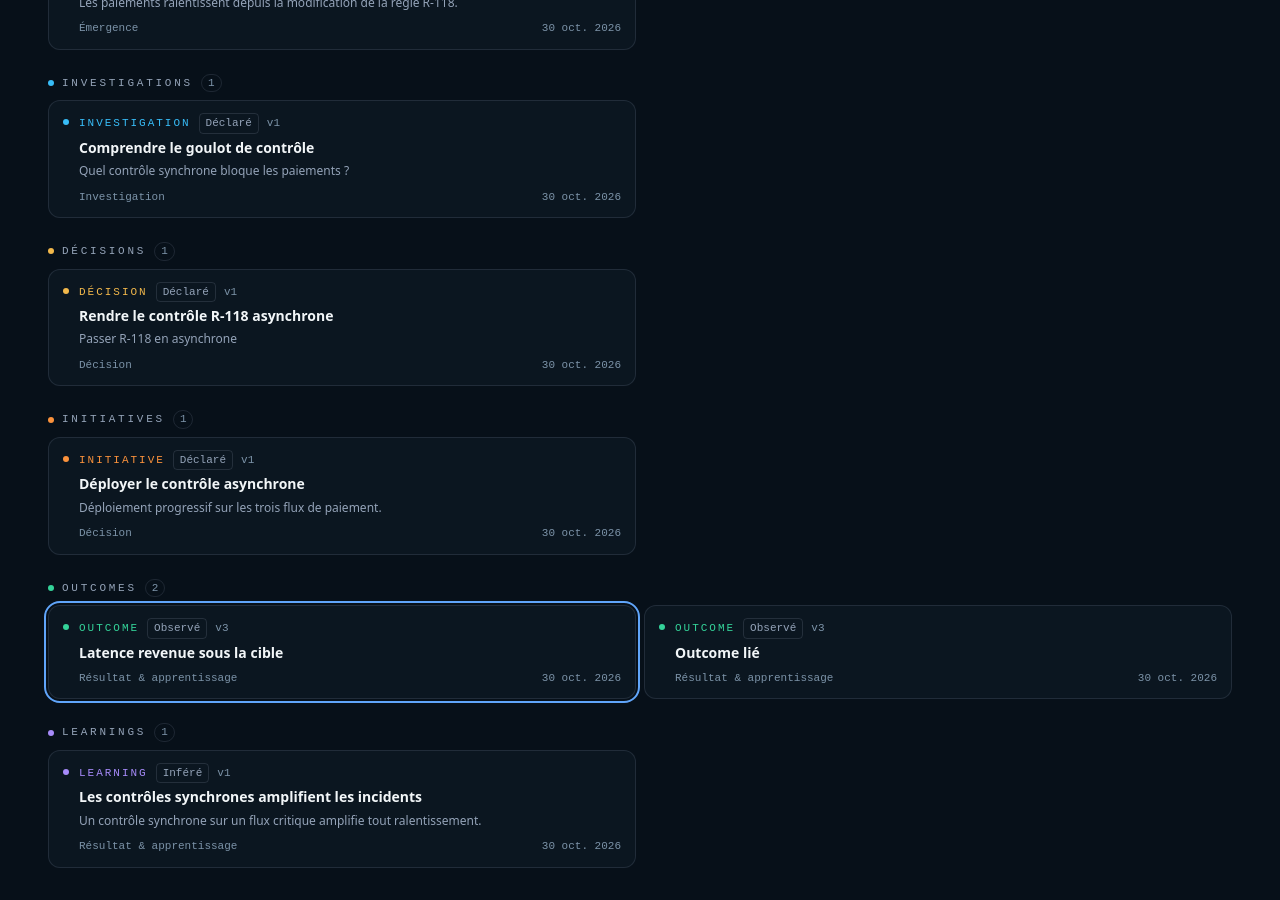
Scenario: montre les preuves, claims et outcomes exposés et ouvre un outcome lié
Later steps or results of the test are not shown.
(page scrolled)
Click the 5th button: (109, 628) [48,605,636,699]
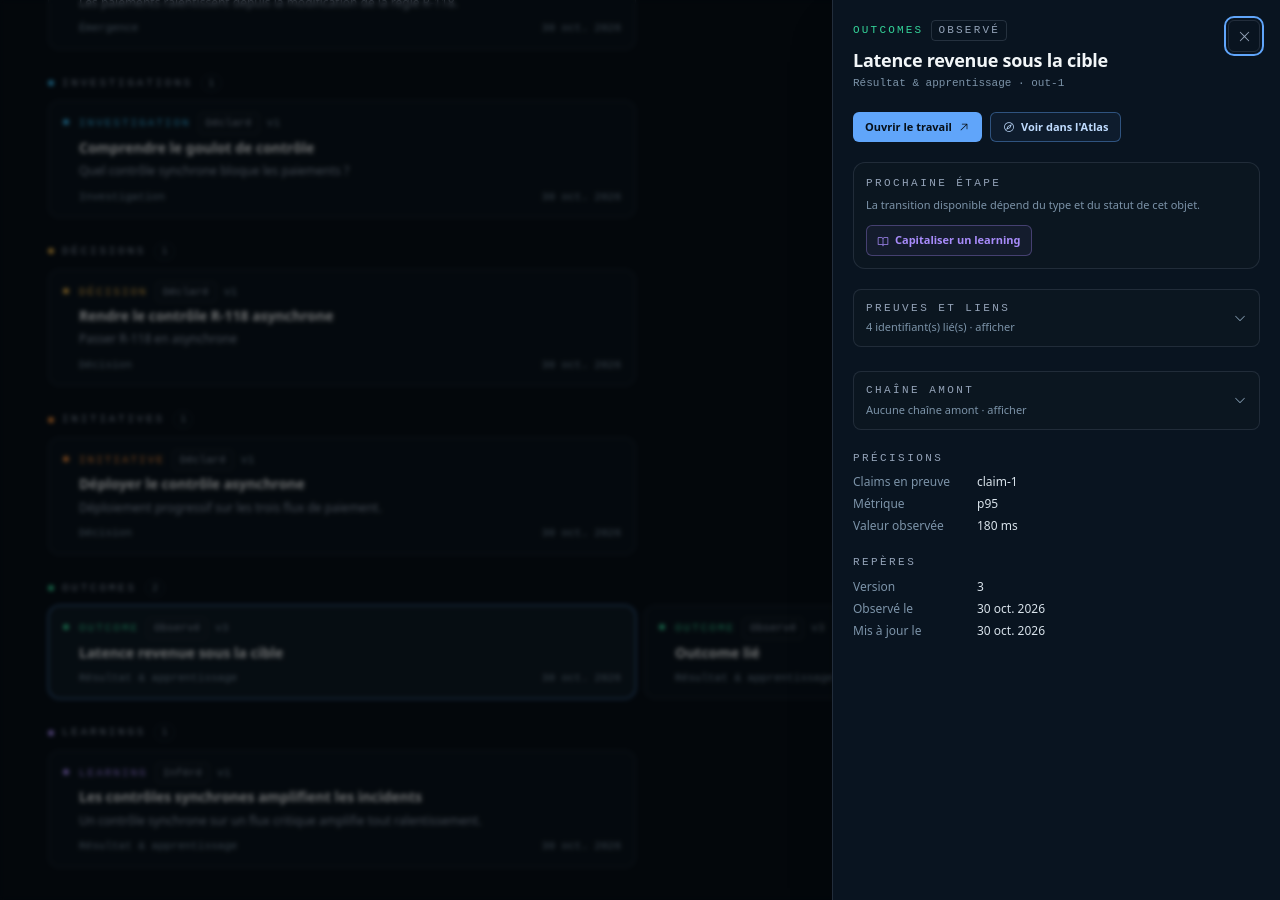
Expected: the button with test id "boucle-liens-bouton" is shown
Click the button with test id "boucle-liens-bouton": (938, 308) [853,289,1260,347]
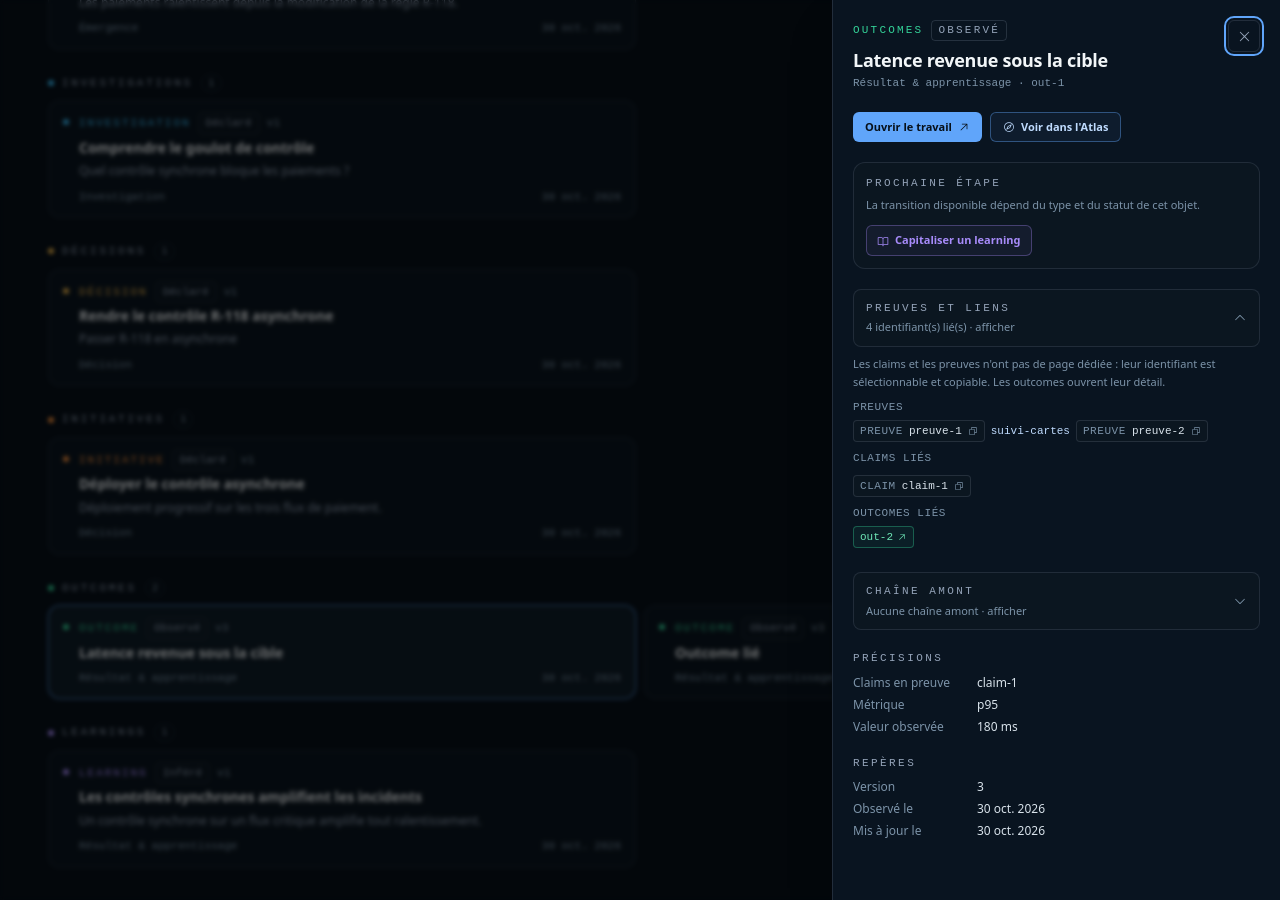
Expected: the element with test id "boucle-liens" is shown, [853,289,1260,548]
Expected: the list with test id "boucle-preuves" shows "preuve-1", [909,424,962,436]
Expected: the list with test id "boucle-preuves" shows "suivi-cartes", [991,424,1070,436]
Click the button with test id "boucle-claim-claim-1-copier": (959, 486) [954,481,964,491]
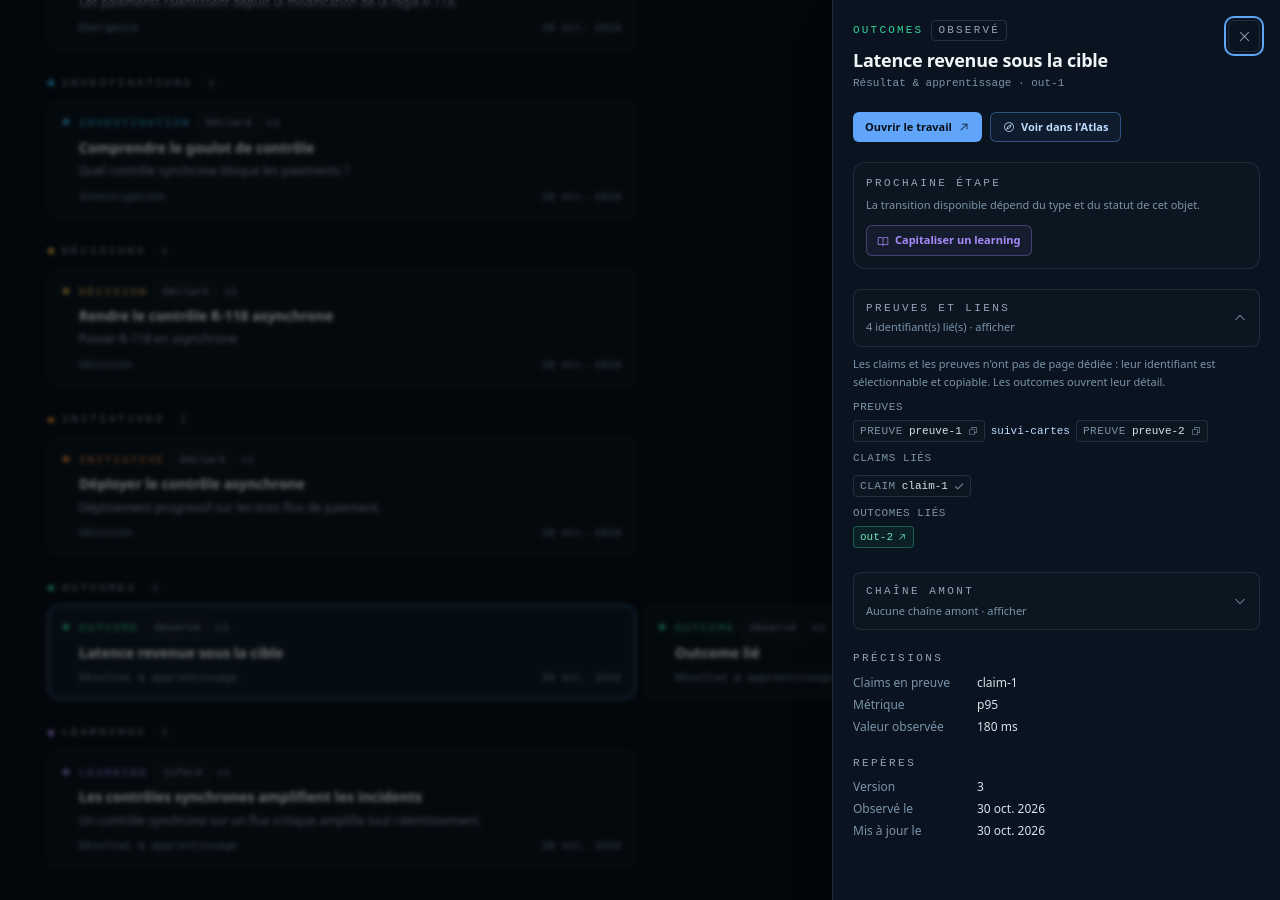
Click the button with test id "boucle-outcome-lien-out-2": (884, 537) [853,526,914,548]
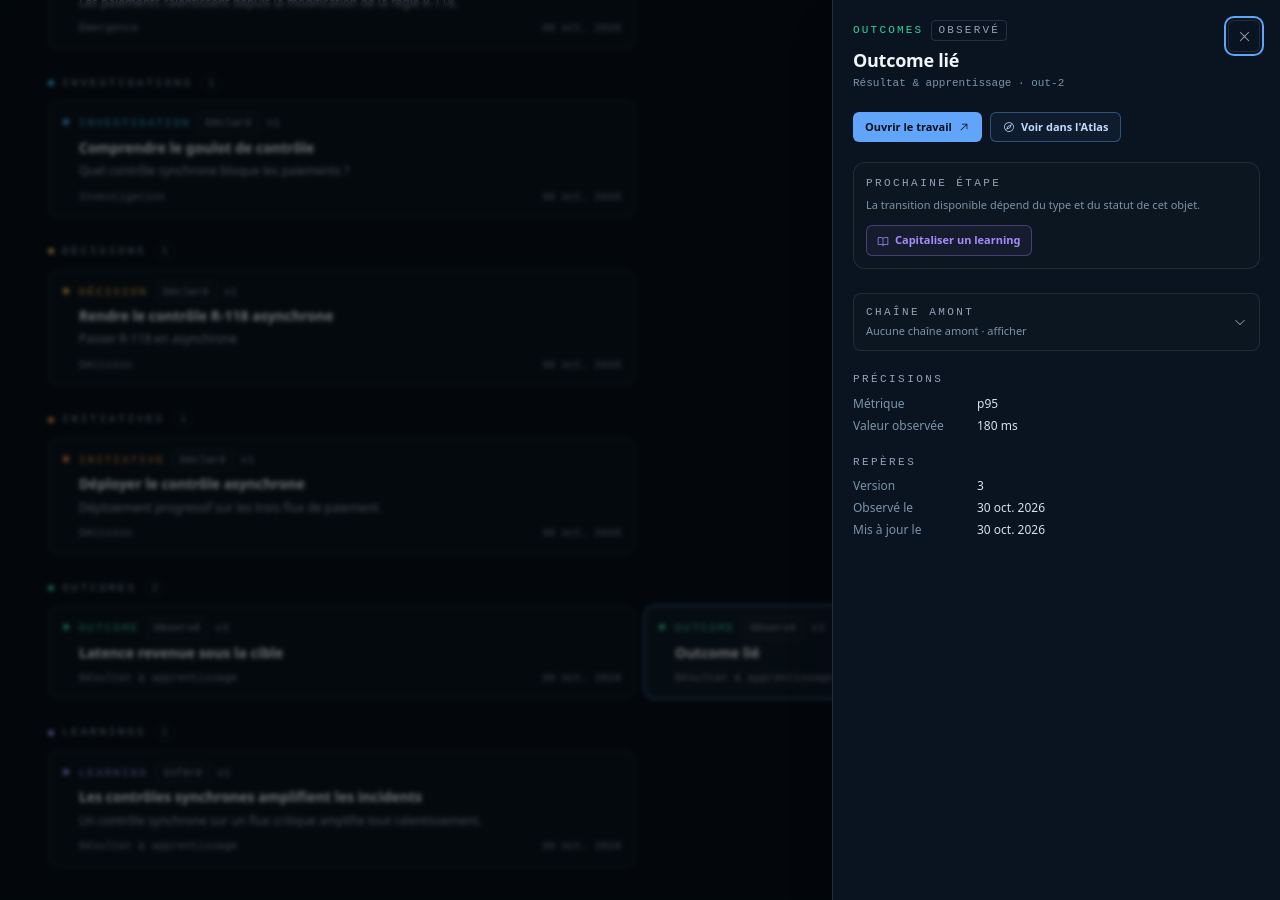
Expected: the button with test id "boucle-detail-fermer" is shown, [1228,20,1260,52]
Expected: the heading with test id "boucle-detail-titre" reads "Outcome lié", [853,48,959,72]
